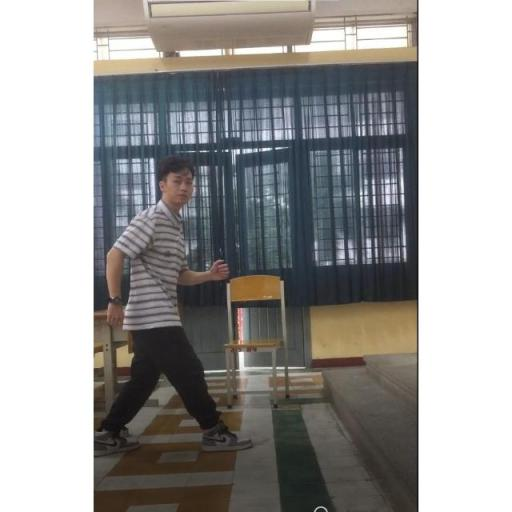Running: (94, 152, 260, 467)
